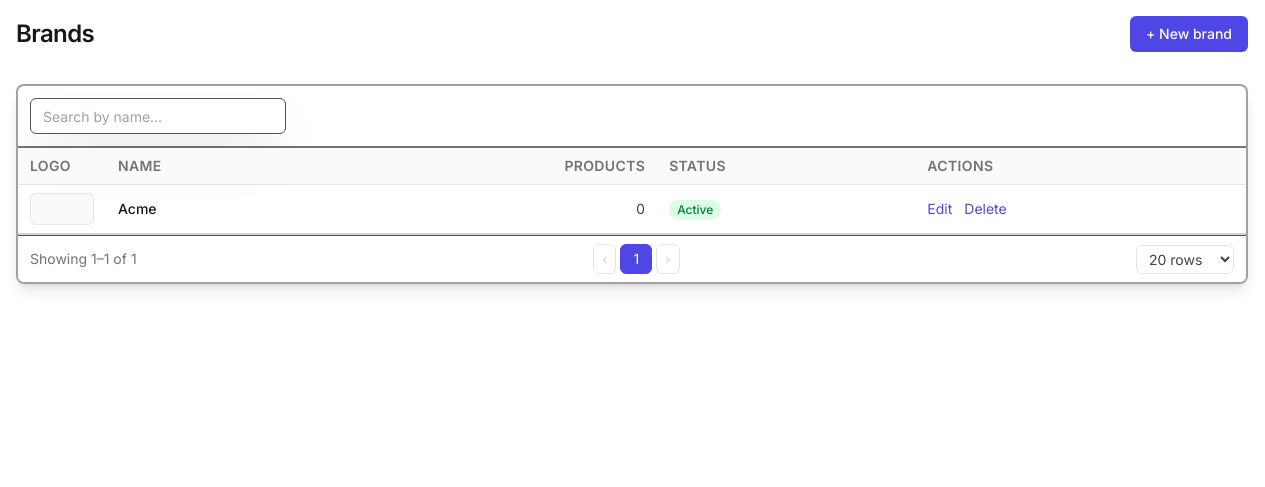
Test: BrandsPage › creates a new brand
This screenshot has width=1265, height=487.
Check: the text "Acme" is shown, box [118,200,157,217]
Click the button "+ New brand" at (1189, 34), box [1130,16,1248,52]
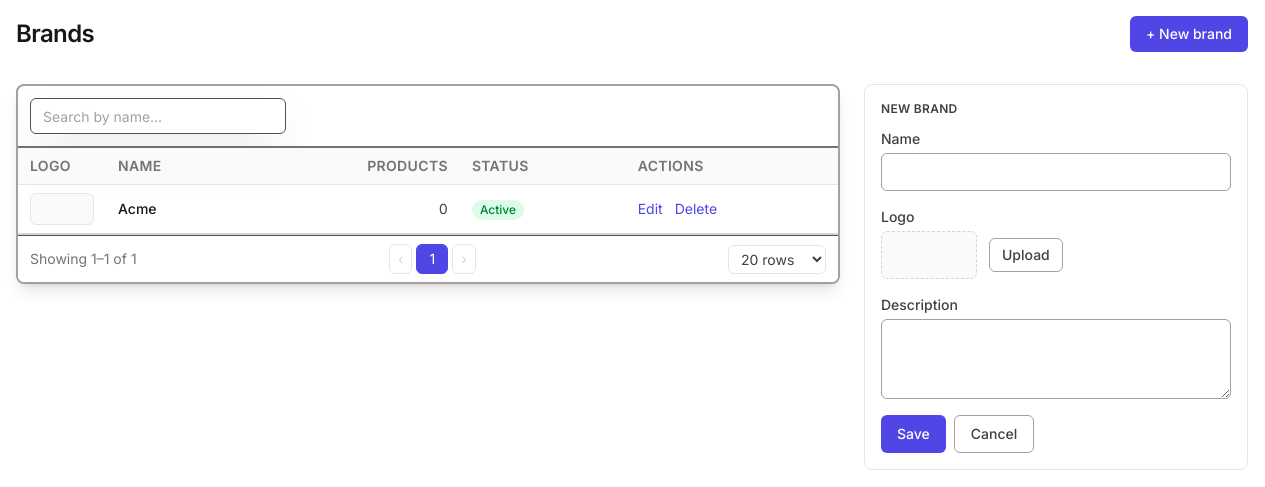
Type "Nova" into the field labelled "Name" at (1056, 172), box [881,153,1231,191]
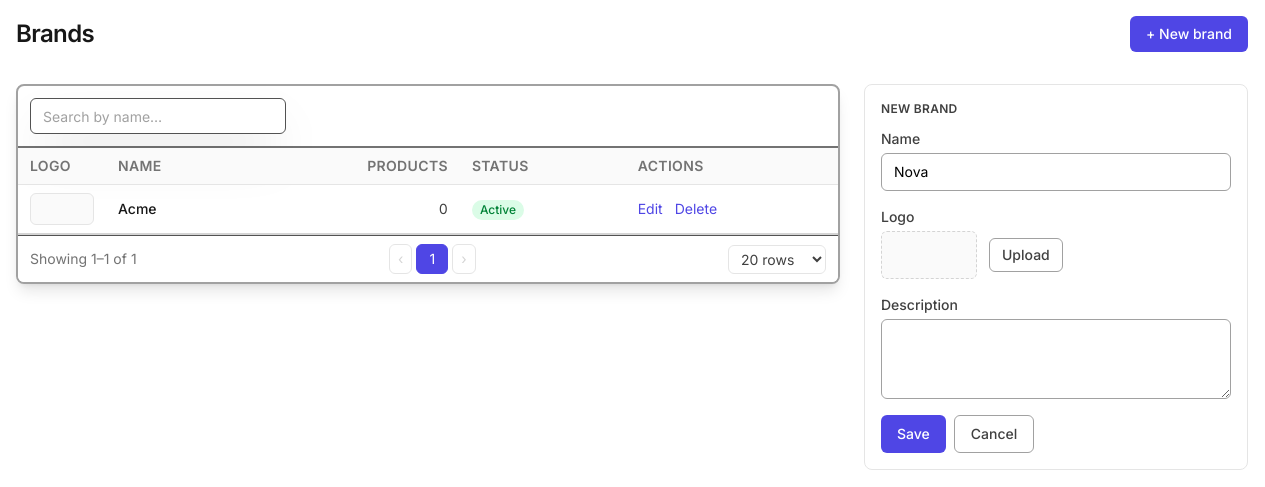
Click the button "Save" at (913, 434), box [881,415,946,453]
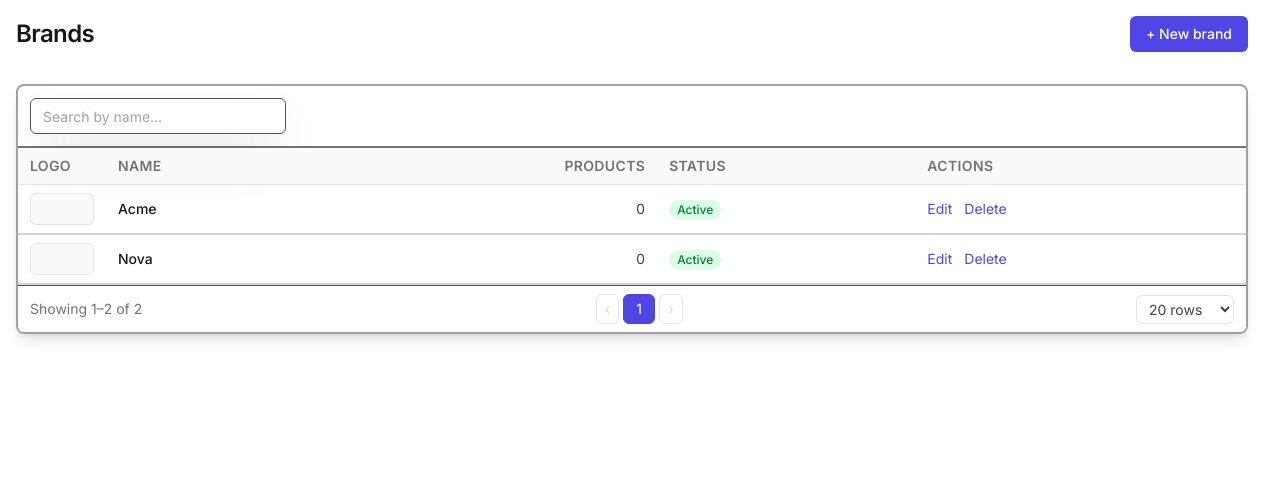
Check: the text "Nova" is shown, box [118,250,153,267]
